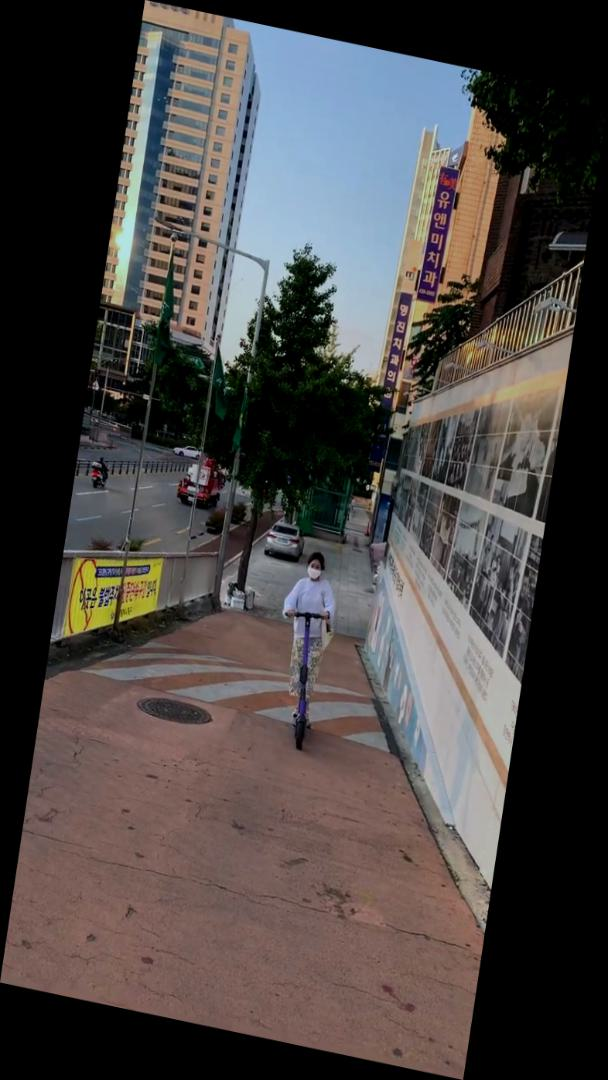nonhelmet: (259, 542, 350, 756)
